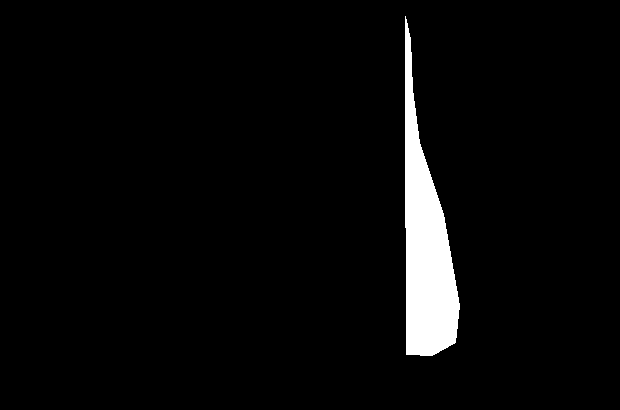type5: (400, 14, 463, 359)
